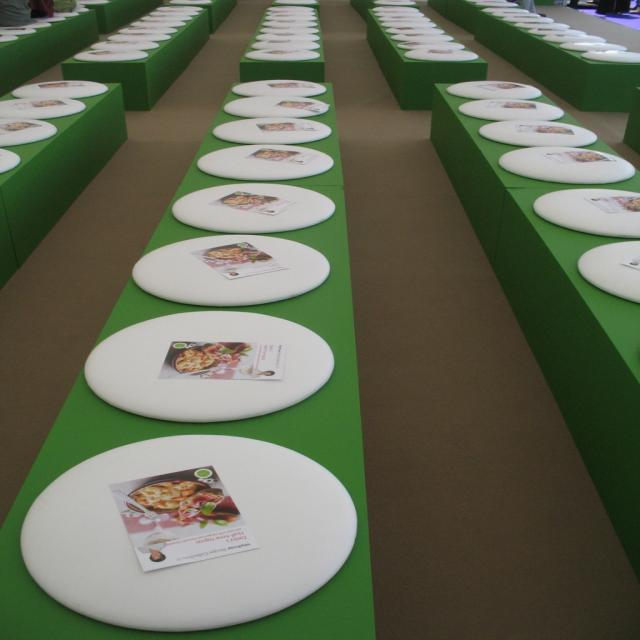non-organic waste: (36, 442, 342, 632), (84, 283, 323, 453), (109, 214, 353, 325)
